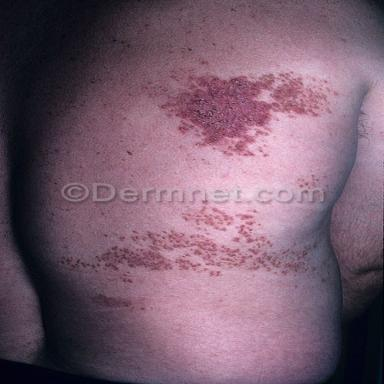Darier_s-Disease: (62, 204, 316, 275), (143, 72, 332, 157), (91, 293, 131, 307)
